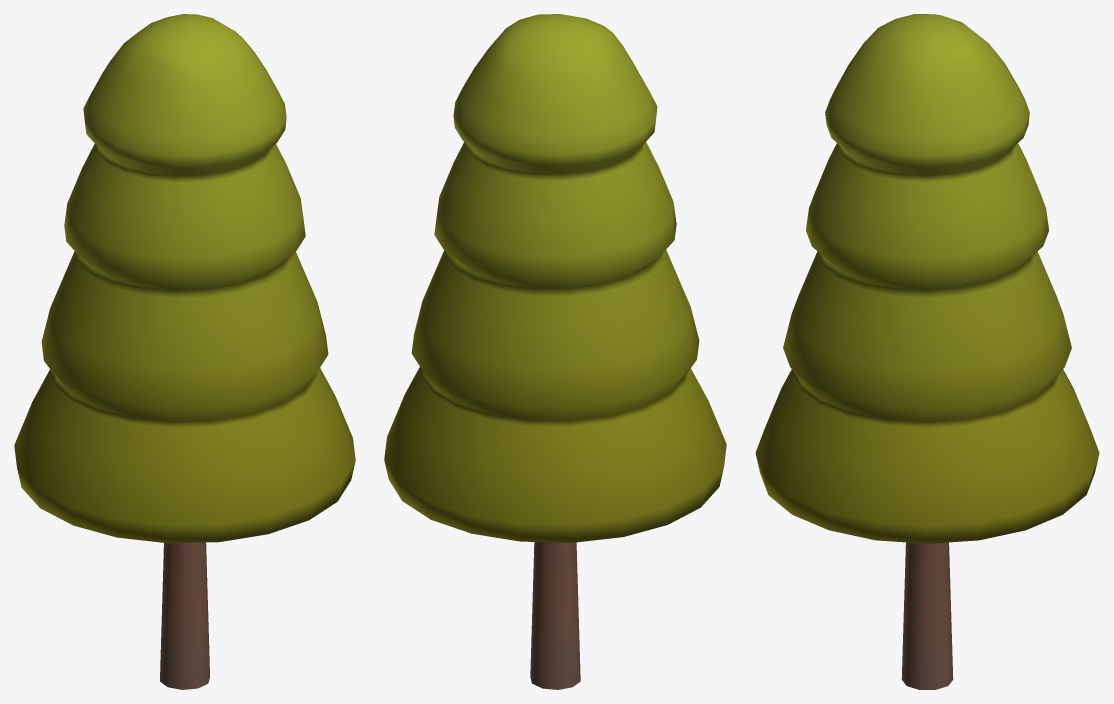
The model's file is Tree1.fbx.
3 views of the same model, side by side, from view 1: azimuth 30°, elevation 25°; view 2: azimuth 150°, elevation 25°; view 3: azimuth 270°, elevation 25° (orthographic).
Parts seen in each view (by area): view 1: Bush, Wood; view 2: Bush, Wood; view 3: Bush, Wood.
Part boxes in pixels (<box>): Bush: <box>14,14,355,543</box>; Wood: <box>160,542,209,689</box>; Bush: <box>384,14,726,542</box>; Wood: <box>530,542,580,689</box>; Bush: <box>755,14,1099,543</box>; Wood: <box>901,542,953,689</box>.
Bounding box in the file's own units: 378 × 799 × 378.
